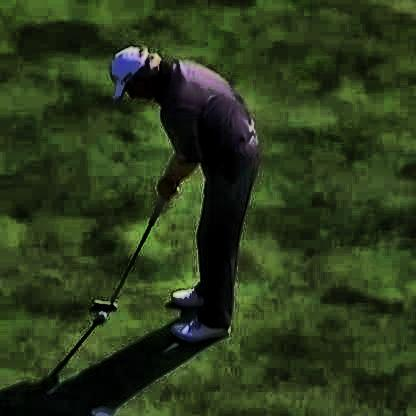golfball: (95, 307, 102, 318)
